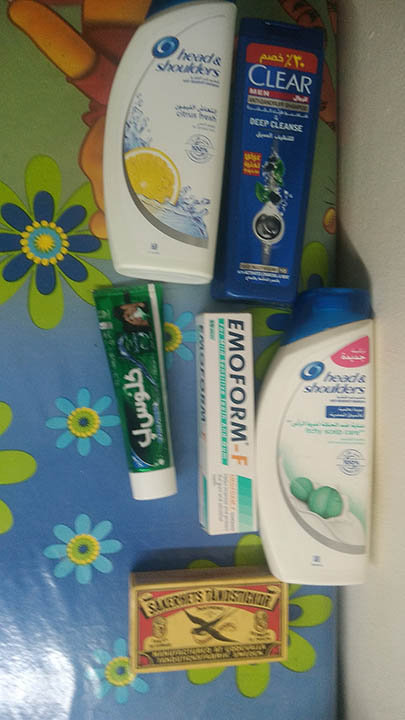Shampoo-Clear 4.7$: (226, 22, 332, 293)
Toothpaste-Closeup 3.04$: (90, 283, 176, 507)
Toothpaste-F 1.5$: (194, 310, 261, 538)
match-sticks .90$: (122, 582, 289, 661)
shampoo-Lemon 3.5$: (117, 1, 231, 276)
shampoo-green 4.5$: (266, 294, 376, 586)
